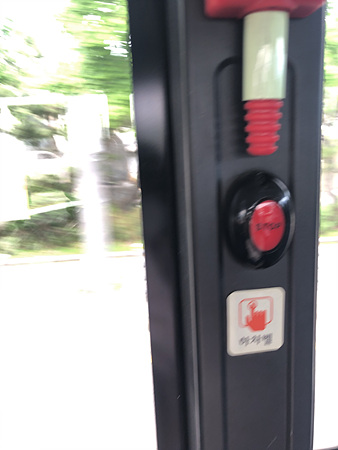bell: (223, 171, 296, 268)
